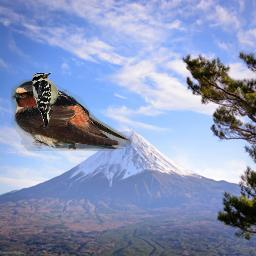Swallow: (11, 79, 132, 151)
Woodpecker: (31, 71, 67, 129)
